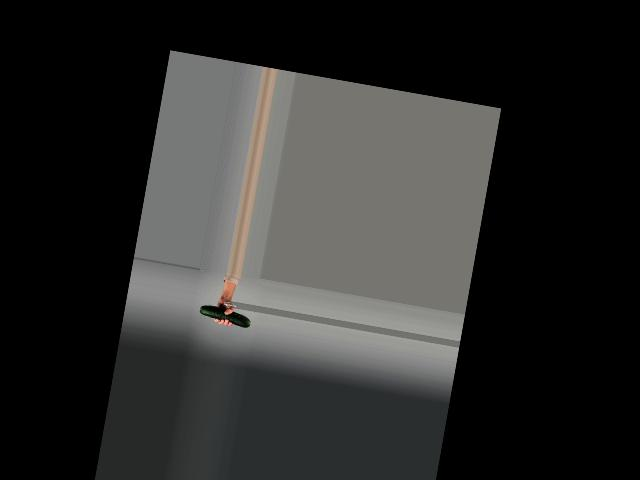cucumber: (199, 304, 252, 328)
